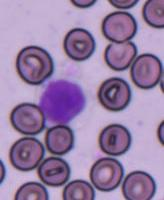L: (37, 76, 96, 125)
